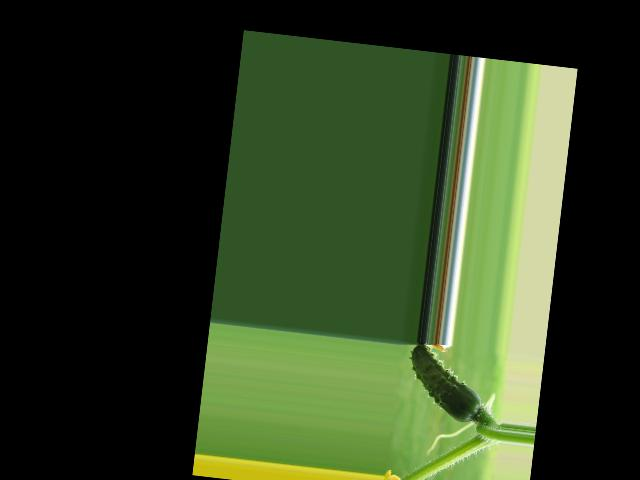cucumber: (403, 343, 486, 425)
